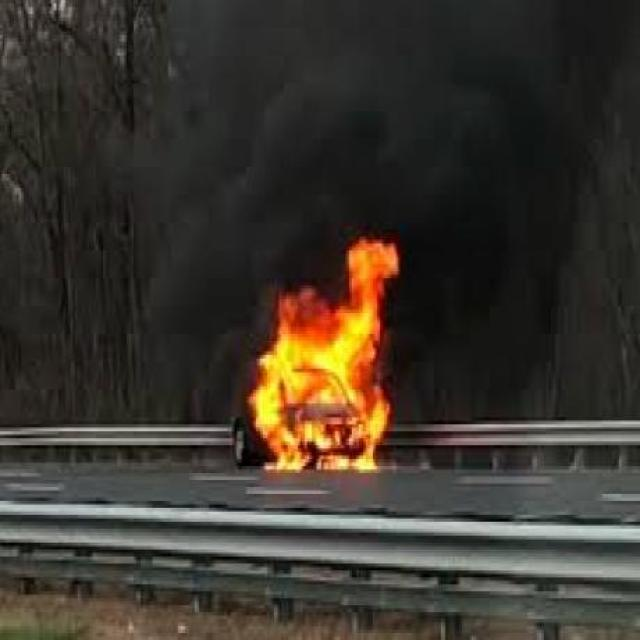Fire: (248, 227, 406, 477)
Smoke: (166, 6, 637, 230), (400, 217, 564, 440), (146, 222, 245, 414), (249, 195, 343, 283)
